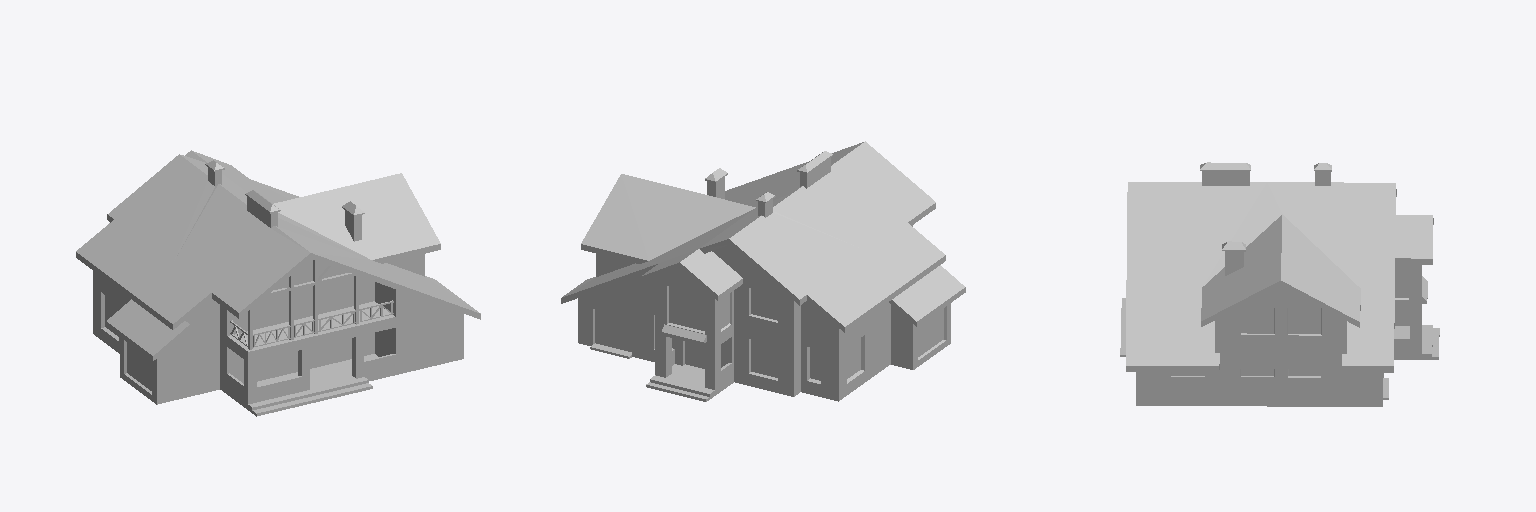
The model's file is house.obj.
The picture shows the model from 3 angles: view 1: azimuth 30°, elevation 25°; view 2: azimuth 150°, elevation 25°; view 3: azimuth 270°, elevation 25°; orthographic projection.
Visible parts, largest first — view 1: house:Mesh; view 2: house:Mesh; view 3: house:Mesh.
Boxes of the visible parts, <box> form: house:Mesh: <box>76,150,480,416</box>; house:Mesh: <box>561,141,965,401</box>; house:Mesh: <box>1120,162,1439,406</box>.
Size of the model in its own units: 10.06 by 5.34 by 9.26.